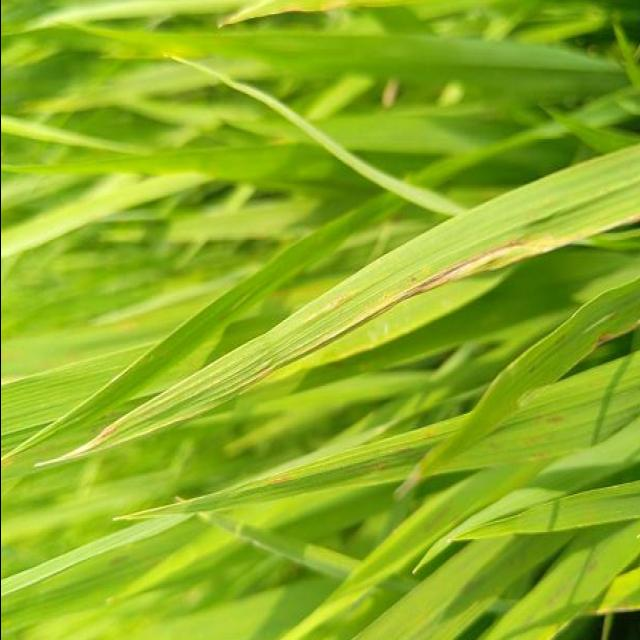Leaf Blight: (64, 225, 603, 458)
